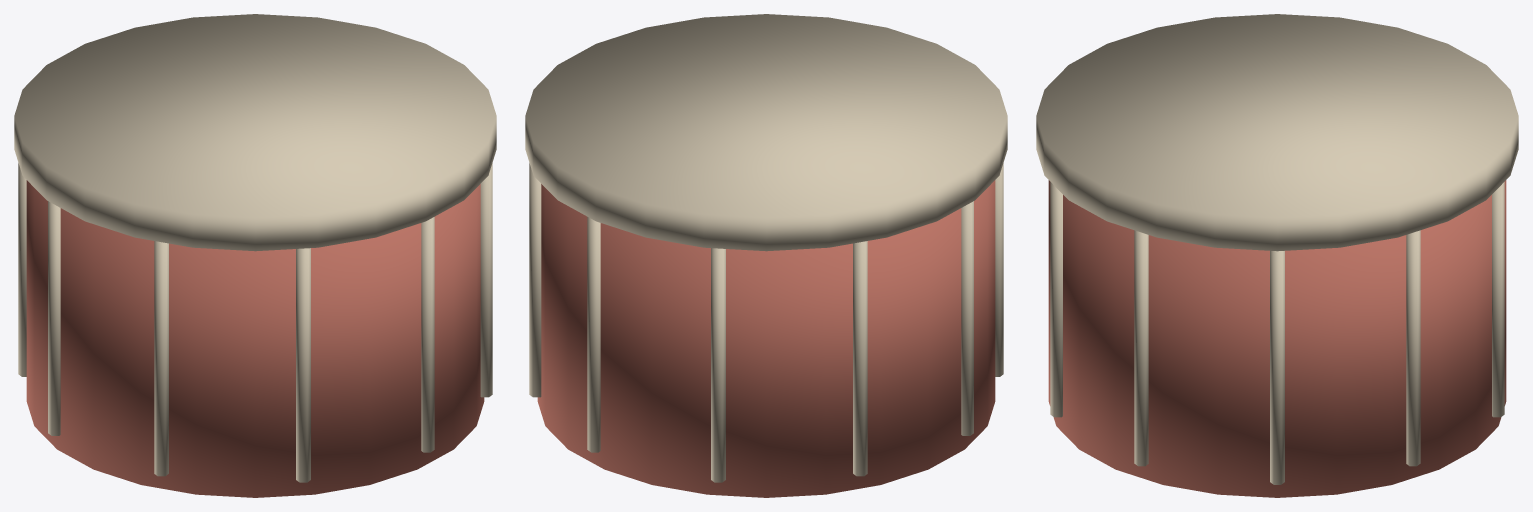
File: drum.glb
The picture shows the model from 3 angles, left to right: view 1: azimuth 30°, elevation 25°; view 2: azimuth 150°, elevation 25°; view 3: azimuth 270°, elevation 25°; orthographic projection.
Visible parts, largest first — view 1: body; view 2: body; view 3: body.
Part boxes in pixels (box(x1,y1,x2,y2)): body: box(14, 14, 496, 497); body: box(525, 14, 1007, 497); body: box(1036, 14, 1518, 497).
Bounding box in the file's own units: 1.18 × 0.77 × 1.18.
